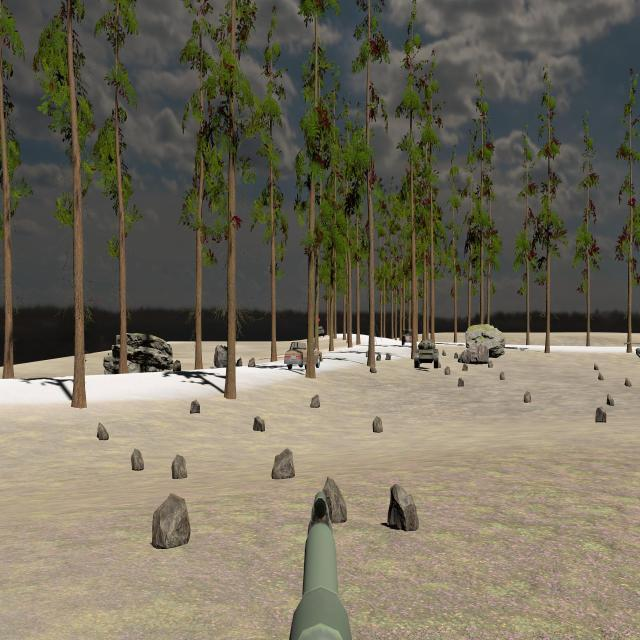Tank: (414, 339, 440, 370), (629, 339, 640, 359)
car: (284, 340, 322, 370)
